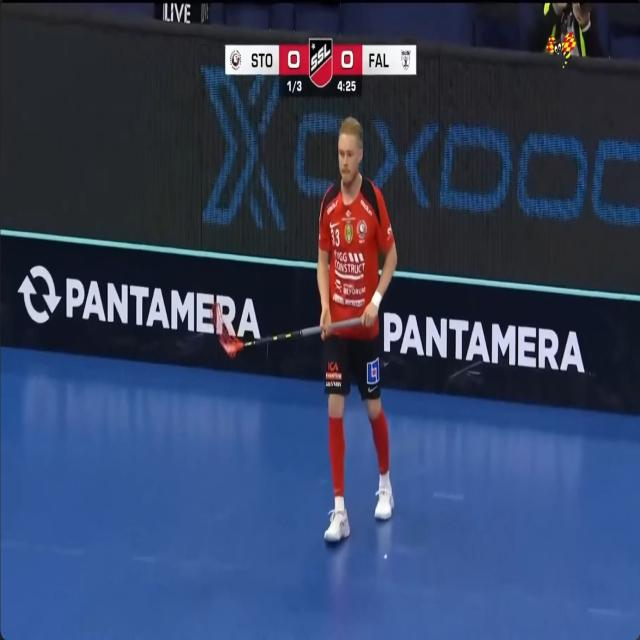player: (317, 117, 397, 541)
